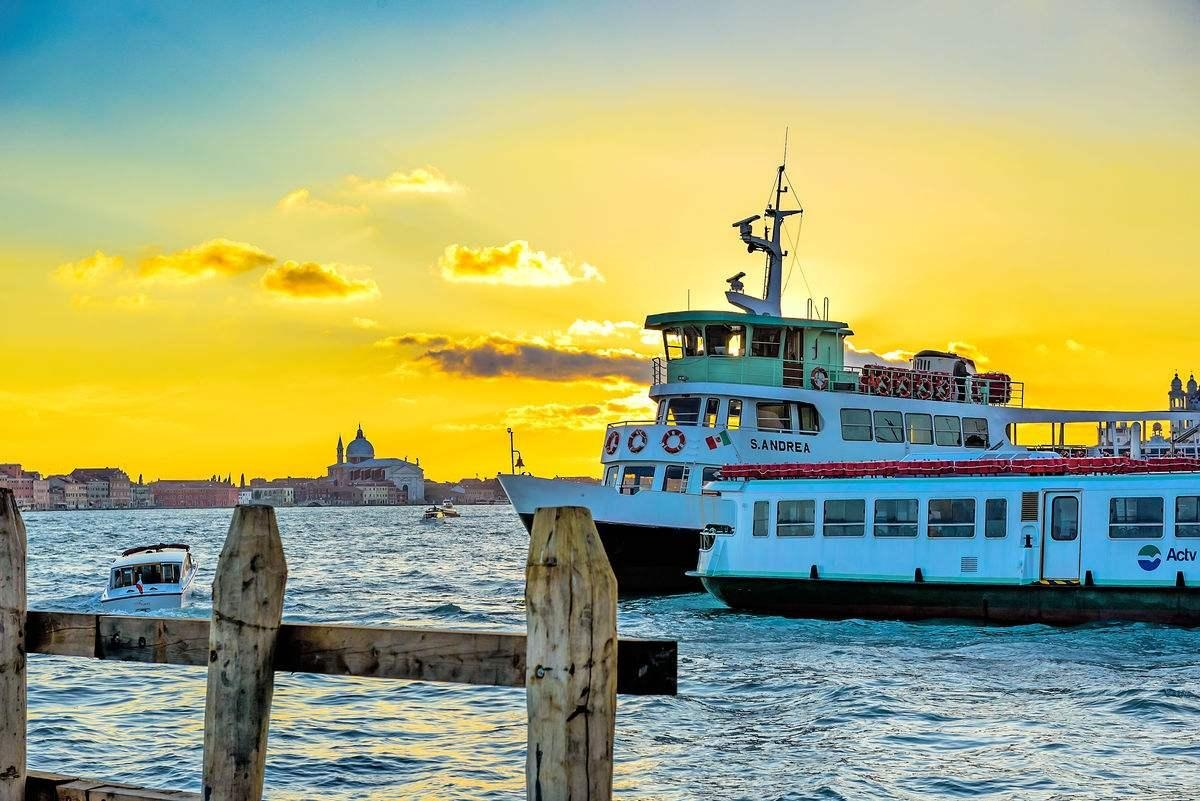otherboat: (488, 124, 1041, 595), (685, 397, 1200, 608), (100, 539, 202, 612)
